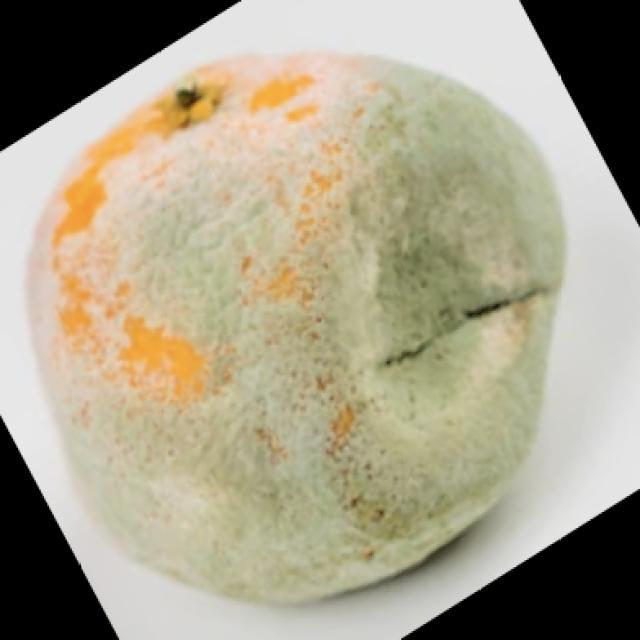sangat-busuk: (32, 52, 563, 601)
